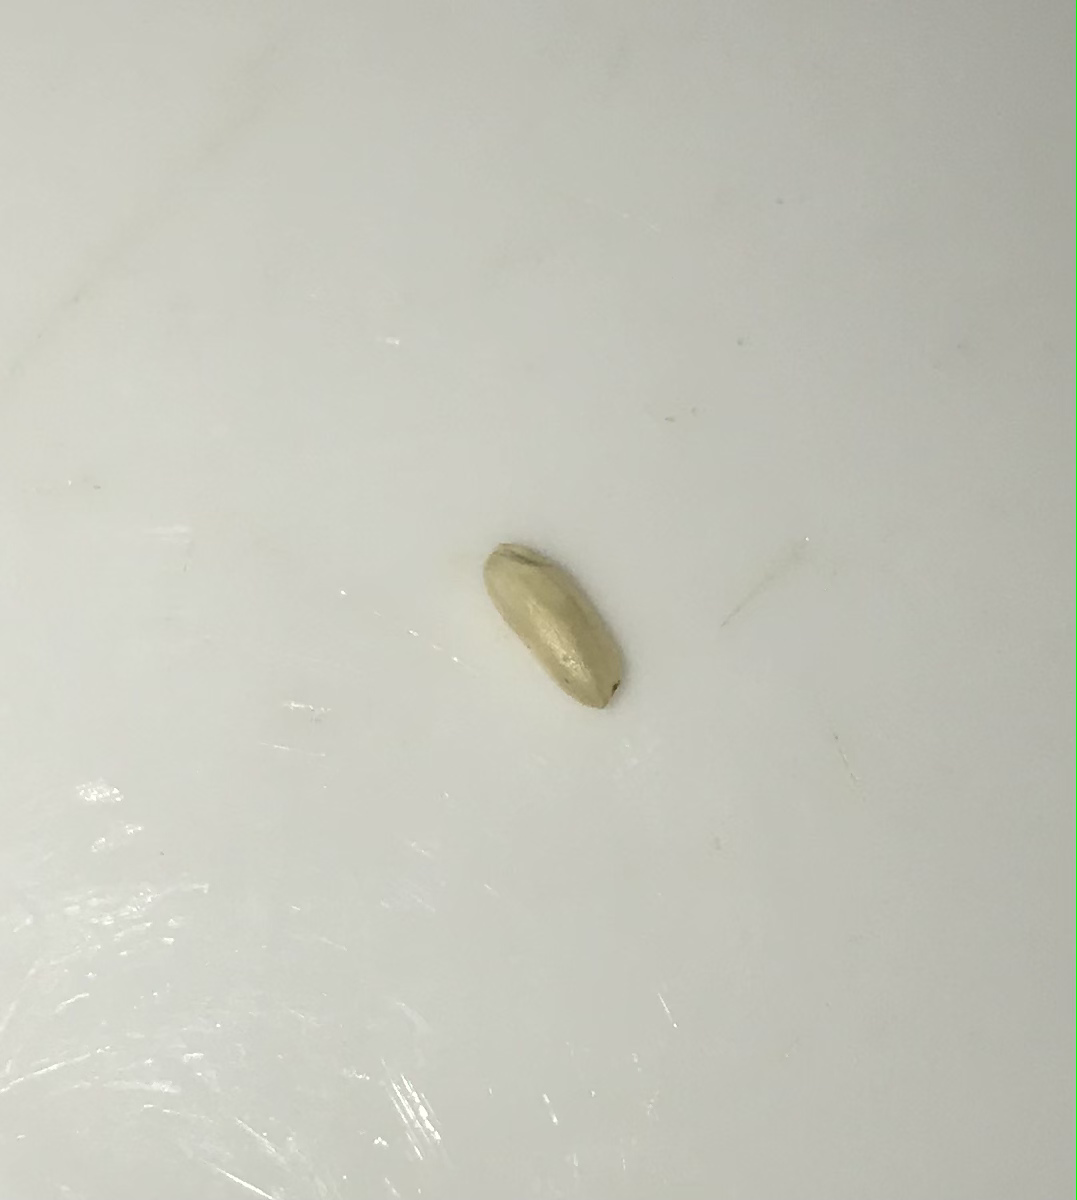Gao Lut Trang: (466, 521, 658, 744)
